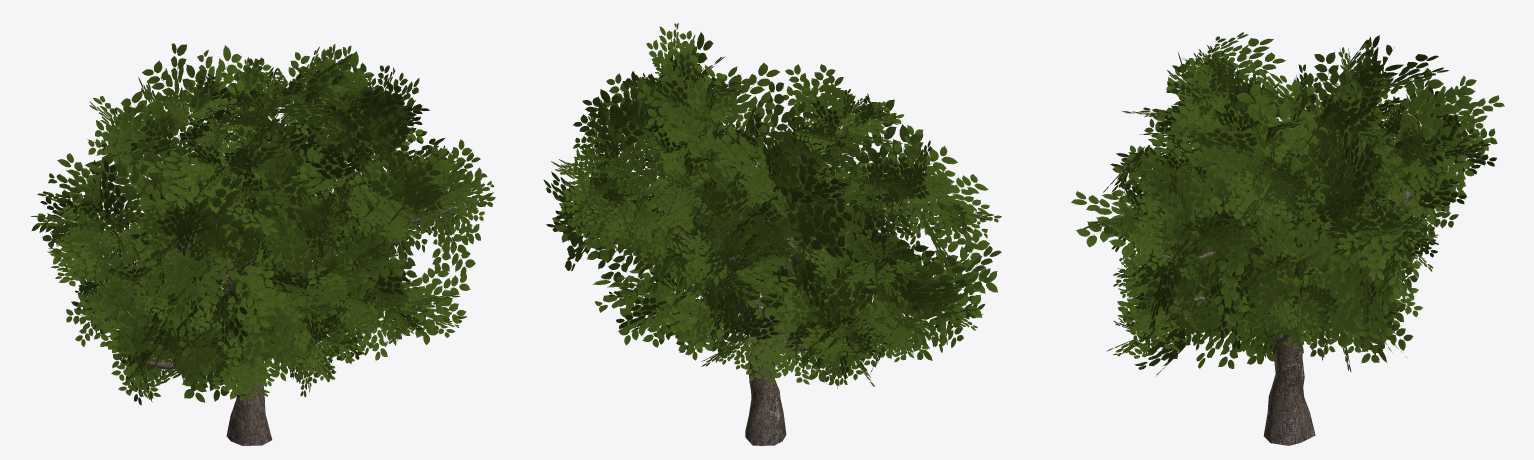
The model's file is WC_Tree_01.FBX.
3 renders of one model, left to right at view 1: azimuth 30°, elevation 25°; view 2: azimuth 150°, elevation 25°; view 3: azimuth 270°, elevation 25°, orthographic. The views are drawn at different scales.
Parts seen in each view (by area): view 1: WC_Tree_001; view 2: WC_Tree_001; view 3: WC_Tree_001.
Part boxes in pixels (left/top/right/bottom): WC_Tree_001: left=31, top=43, right=495, bottom=445; WC_Tree_001: left=543, top=23, right=1001, bottom=445; WC_Tree_001: left=1071, top=32, right=1504, bottom=445.
Size of the model in its own units: 34.85 by 31.53 by 29.7.
